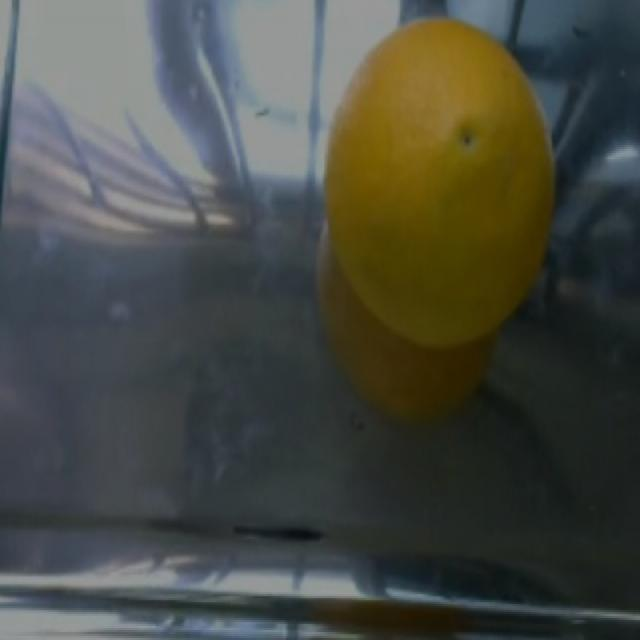Fruit: (312, 0, 571, 324)
